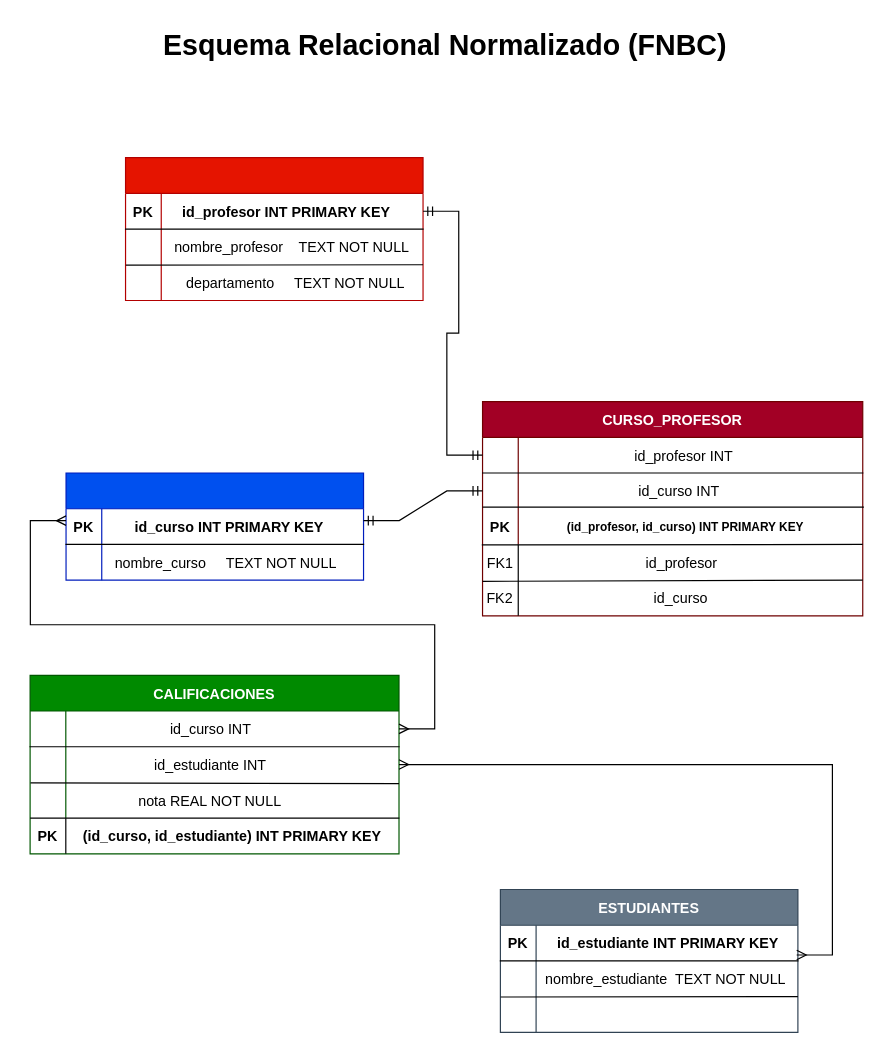
Some shapes in this 887 by 1053 pixel diagram are drawn without their labels. The shapes that lost their labels are listed below. From the top down, each one's box as (x1, y1, x2, y2) in pixels, then its label:
(124, 156, 423, 300): PROFESORES
(65, 472, 364, 580): CURSOS
